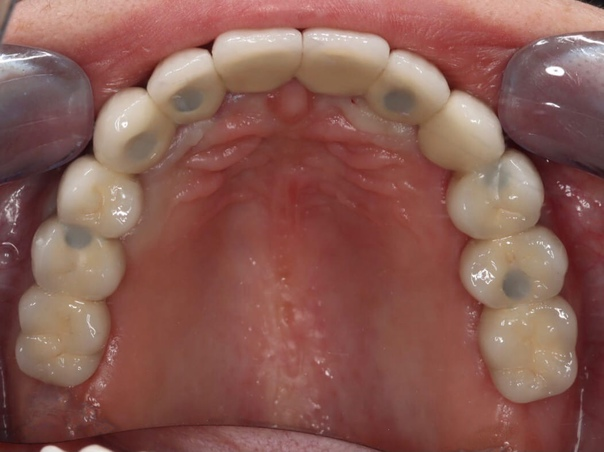UL1BC_decay: (451, 163, 541, 236)
UL1M_healthy: (480, 308, 580, 395)
UL2BC_decay: (464, 234, 570, 300)
ULCI_healthy: (301, 28, 386, 100)
ULC_healthy: (426, 101, 501, 171)
ULLI_decay: (379, 48, 446, 124)
UR1BC_healthy: (59, 159, 146, 236)
UR1M_healthy: (19, 295, 108, 377)
UR2BC_decay: (30, 228, 127, 294)
URCI_healthy: (210, 27, 301, 91)
URC_decay: (95, 97, 171, 167)
URLI_decay: (147, 53, 224, 123)
